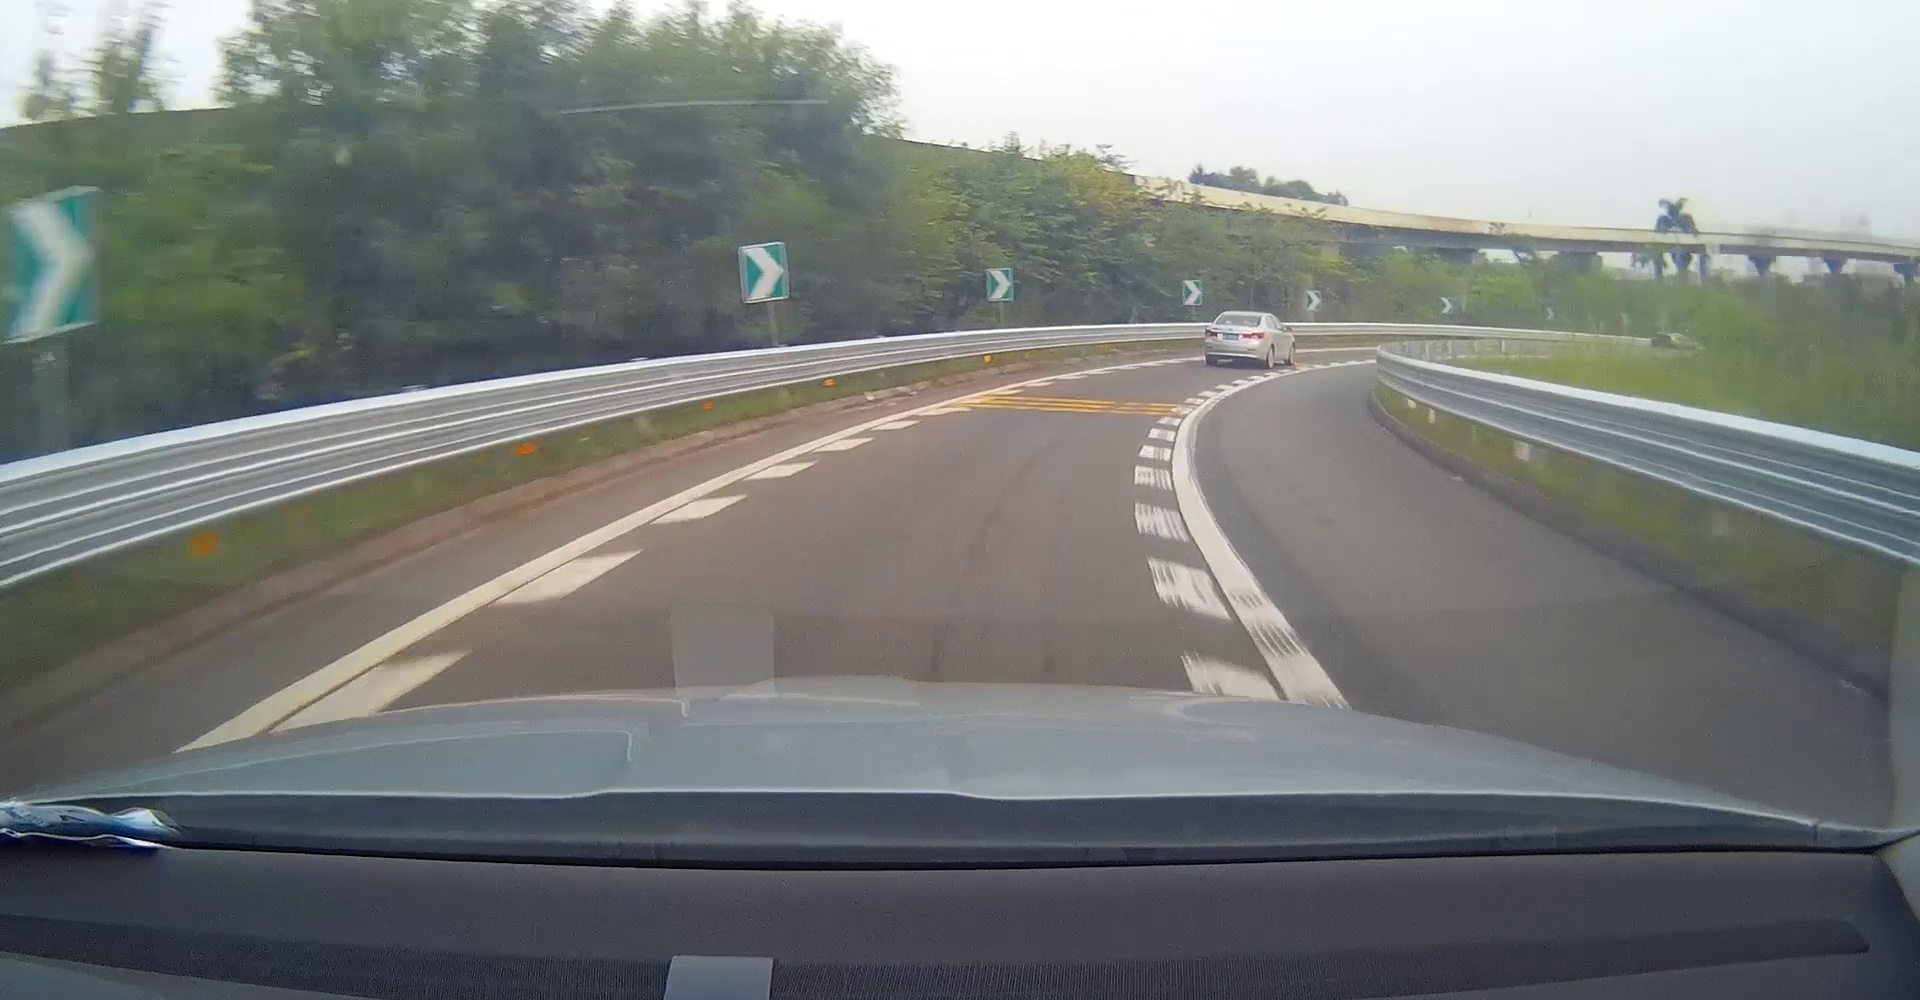L_light: (1205, 329, 1217, 336)
R_light: (1244, 332, 1263, 339)
T_light: (1230, 322, 1243, 326)
day-right: (1204, 311, 1265, 368)
